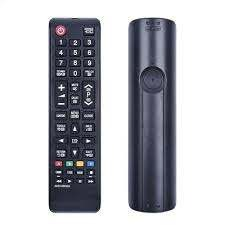remote control: (44, 18, 103, 220), (126, 17, 183, 221)
